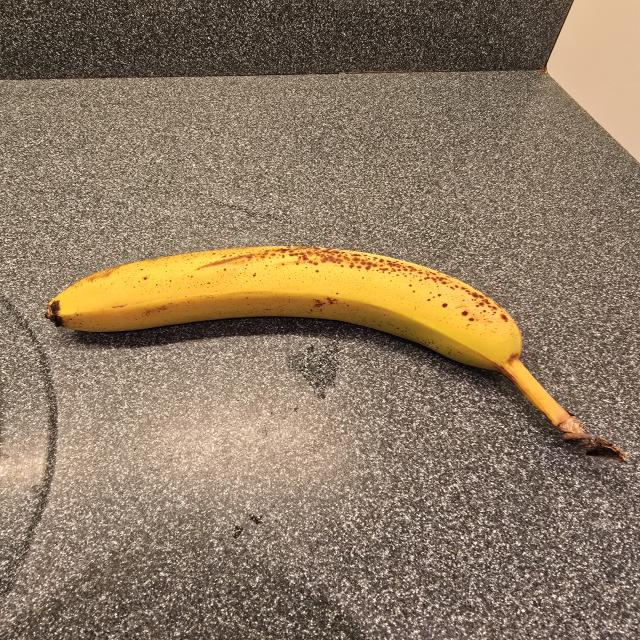Banana: (24, 237, 627, 473)
